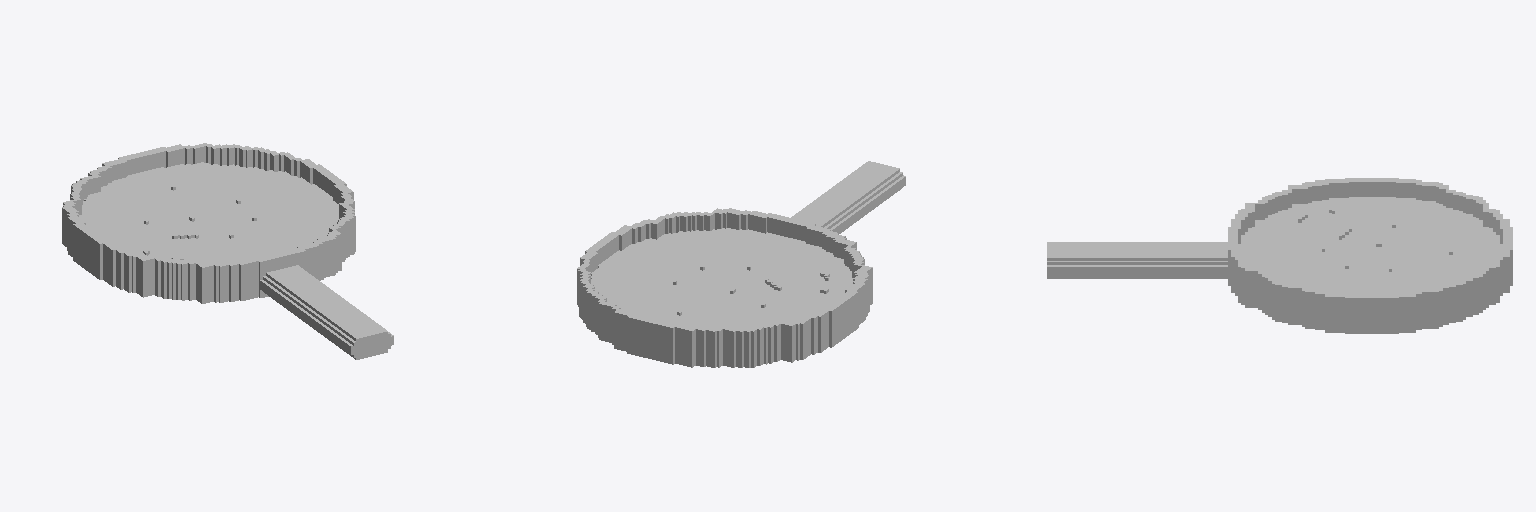
The model's file is SartenCarneHecha.obj.
3 views of the same model, side by side, from view 1: azimuth 30°, elevation 25°; view 2: azimuth 150°, elevation 25°; view 3: azimuth 270°, elevation 25° (orthographic).
Parts seen in each view (by area): view 1: object 1; view 2: object 1; view 3: object 1.
Part boxes in pixels (x1,y1,x2,y2): object 1: (62, 143, 393, 359); object 1: (577, 161, 905, 367); object 1: (1047, 178, 1512, 333).
Bounding box in the file's own units: 8.5 × 1.2 × 13.9.